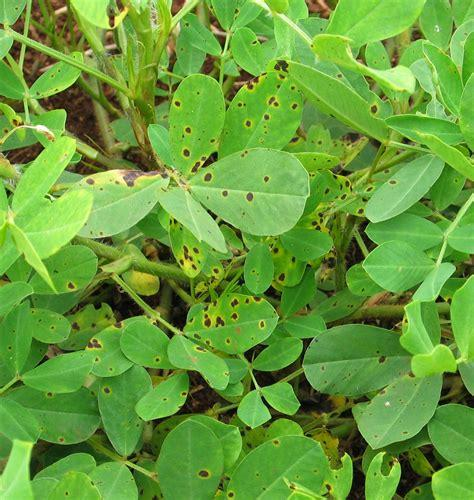black-spot: (215, 168, 291, 213), (236, 92, 290, 131), (199, 308, 243, 335)
